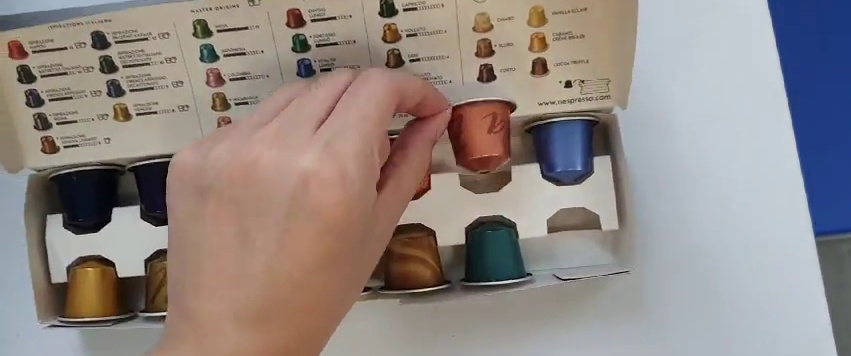capsule_6: (441, 101, 523, 176)
